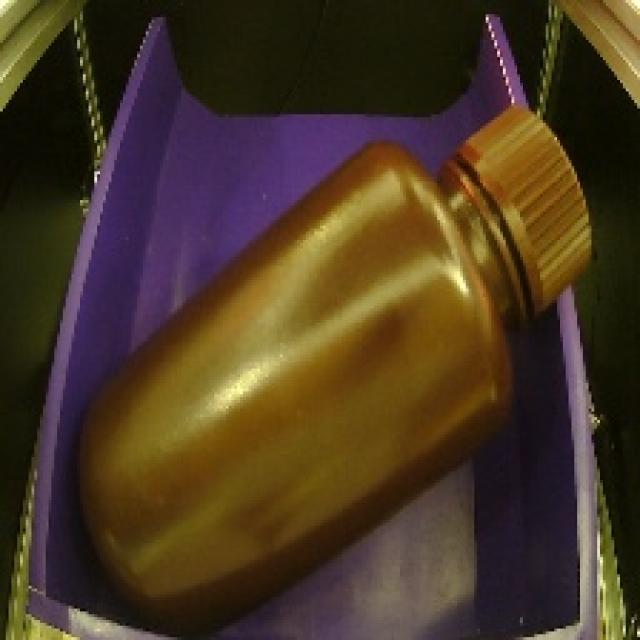plastic: (57, 93, 594, 639)
